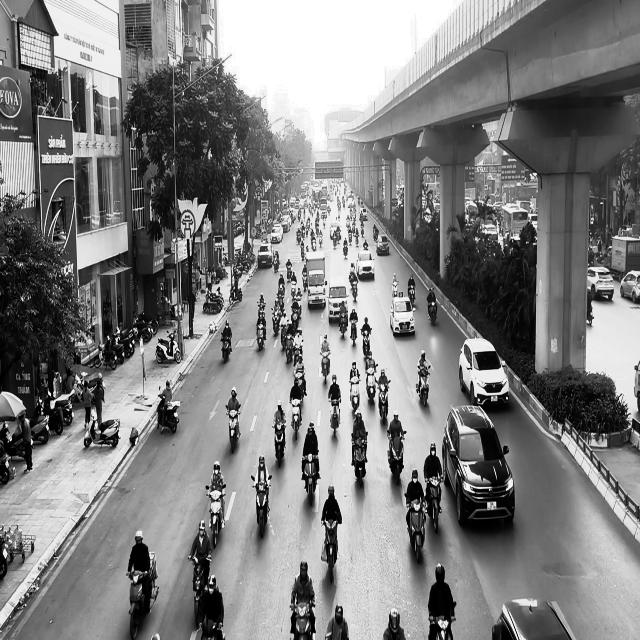car: (442, 404, 515, 525), (458, 337, 509, 407), (492, 598, 576, 640), (389, 294, 415, 336), (587, 266, 614, 301), (356, 250, 375, 280), (376, 233, 390, 256)
motorbike: (126, 552, 159, 639), (187, 554, 211, 628), (404, 492, 426, 564), (84, 406, 120, 448), (250, 474, 272, 538), (321, 517, 340, 584), (205, 486, 225, 548), (424, 474, 444, 534), (301, 452, 320, 509), (387, 429, 406, 485), (156, 389, 180, 433), (290, 600, 316, 640), (351, 431, 368, 485), (155, 329, 181, 364), (225, 404, 241, 453), (272, 420, 286, 468), (416, 364, 430, 406), (289, 398, 303, 440), (328, 396, 341, 438), (365, 363, 378, 404), (349, 374, 360, 412), (220, 333, 232, 363), (320, 349, 330, 384), (256, 317, 266, 351), (361, 328, 371, 357), (427, 300, 437, 325)
